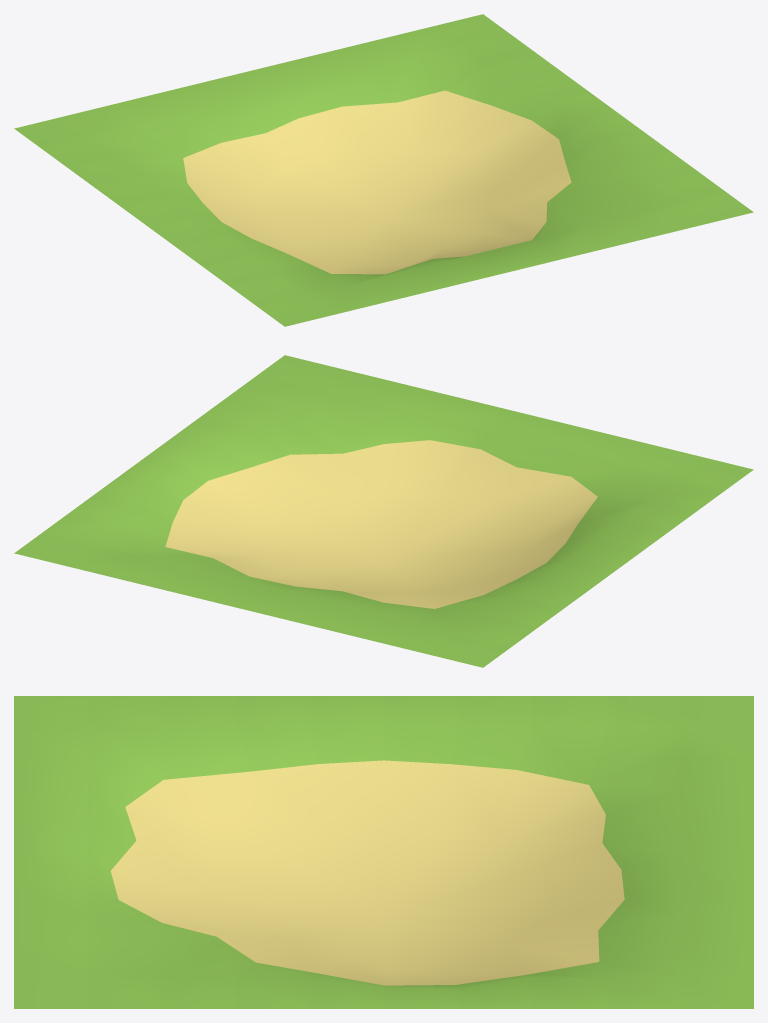
File: Pond.fbx
3 renders of one model, top to bottom at view 1: azimuth 30°, elevation 25°; view 2: azimuth 150°, elevation 25°; view 3: azimuth 270°, elevation 25°, orthographic. The views are drawn at different scales.
Parts seen in each view (by area): view 1: Pond; view 2: Pond; view 3: Pond.
Boxes of the visible parts, x1,y1,x2,y2 form: Pond: (14,14,753,326); Pond: (14,355,753,667); Pond: (14,696,753,1008).
Bounding box in the file's own units: 12.28 × 1.21 × 12.28.
